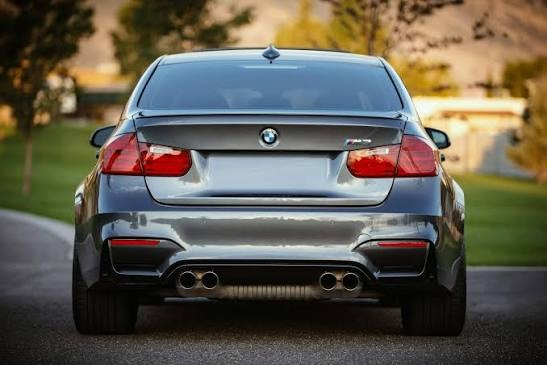car: (65, 48, 473, 336)
